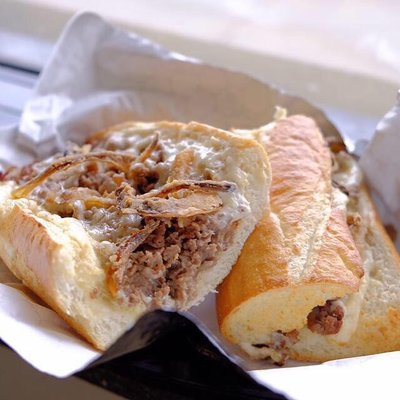soup: (1, 119, 272, 355), (216, 112, 397, 365)
